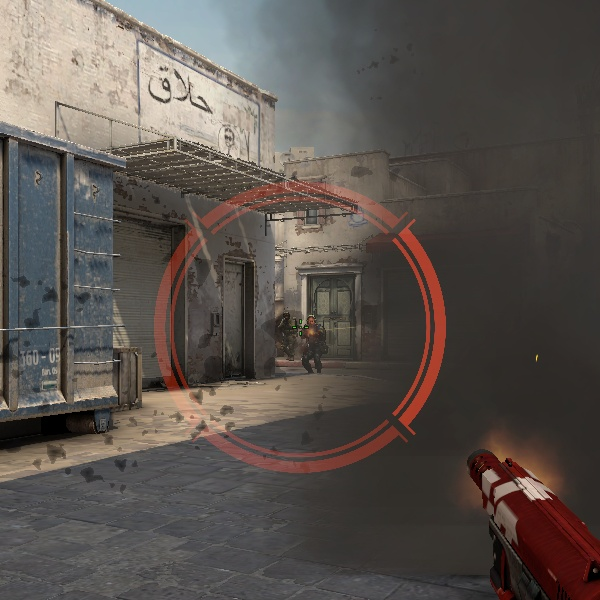ct_body: (297, 314, 329, 374), (275, 310, 302, 363)
ct_head: (303, 315, 318, 329), (280, 310, 293, 324)
